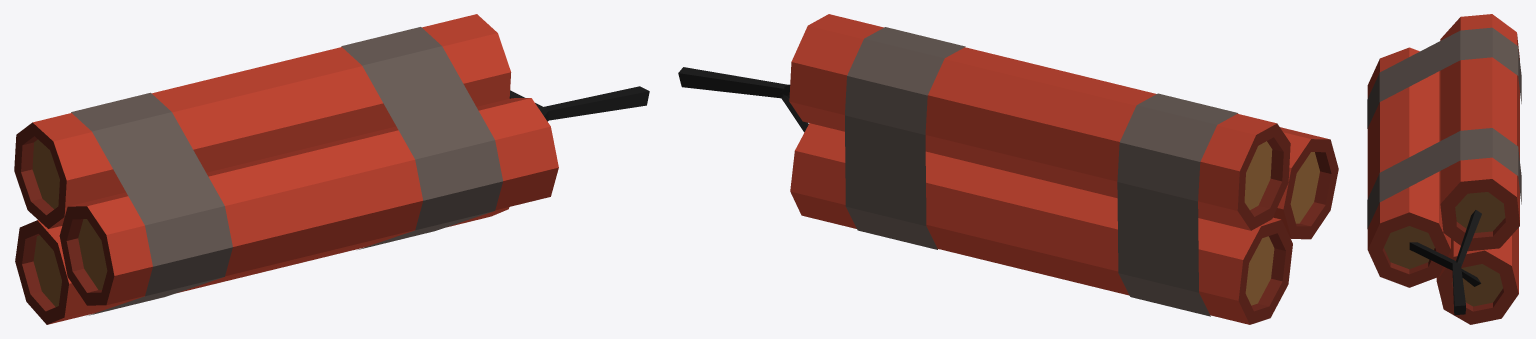
Rendered from Dynamite_TH.glb.
The picture shows the model from 3 angles, left to right: view 1: azimuth 30°, elevation 25°; view 2: azimuth 150°, elevation 25°; view 3: azimuth 270°, elevation 25°; orthographic projection. The views are drawn at different scales.
Visible parts, largest first — view 1: Dynamite; view 2: Dynamite; view 3: Dynamite.
Boxes of the visible parts, x1,y1,x2,y2 form: Dynamite: (14, 14, 649, 324); Dynamite: (678, 14, 1338, 324); Dynamite: (1367, 14, 1521, 324).
Bounding box in the file's own units: 0.309 × 0.0965 × 0.0915.
Materials: 1 (1 with a texture image).
